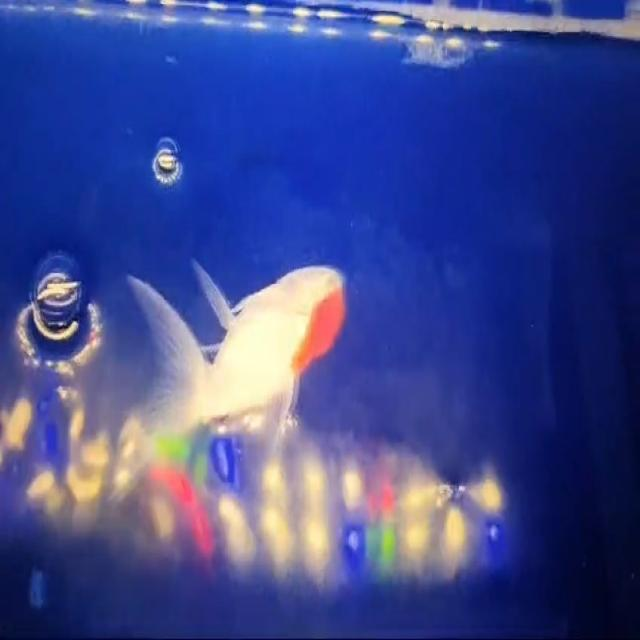fish: (125, 242, 353, 474)
